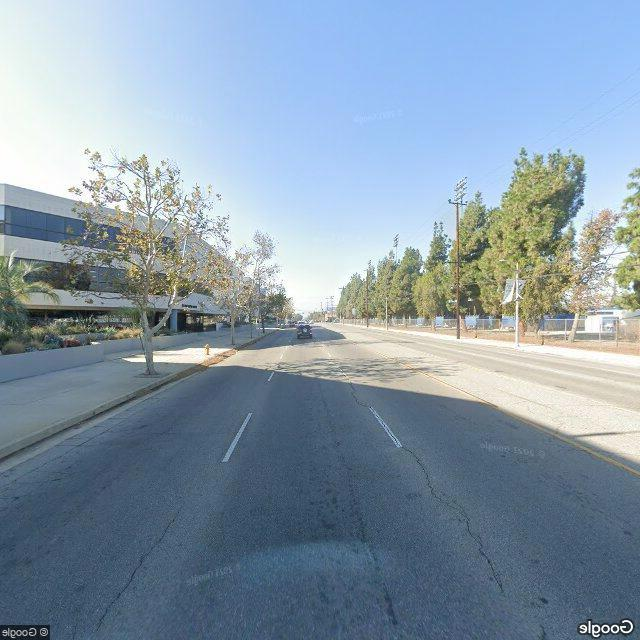crack: (1, 435, 91, 523)
pothole: (402, 441, 512, 595), (94, 502, 188, 628)
